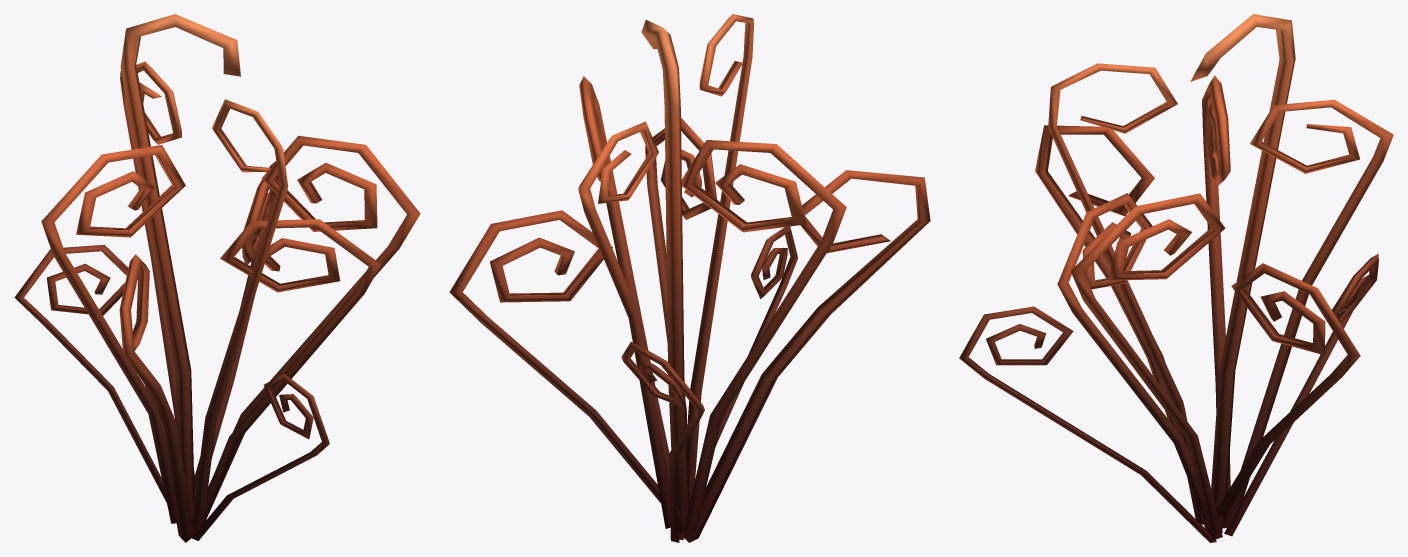
3 views of the same model, side by side, from view 1: azimuth 30°, elevation 25°; view 2: azimuth 150°, elevation 25°; view 3: azimuth 270°, elevation 25° (orthographic). The views are drawn at different scales.
Visible parts, largest first — view 1: fp08; view 2: fp08; view 3: fp08.
Boxes of the visible parts, x1,y1,x2,y2 form: fp08: [14, 14, 420, 542]; fp08: [449, 14, 930, 542]; fp08: [959, 14, 1393, 542].
Size of the model in its own units: 46.41 by 72.59 by 54.2.
